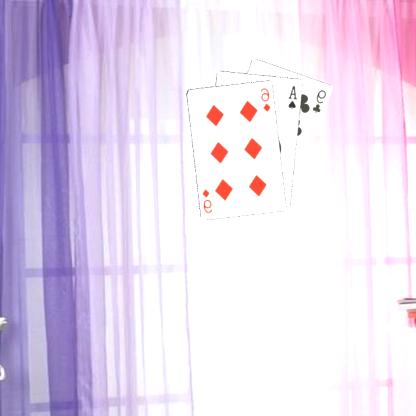6D: (260, 85, 274, 113), (202, 186, 216, 214)
9C: (312, 87, 330, 115)
AS: (288, 83, 300, 110)
